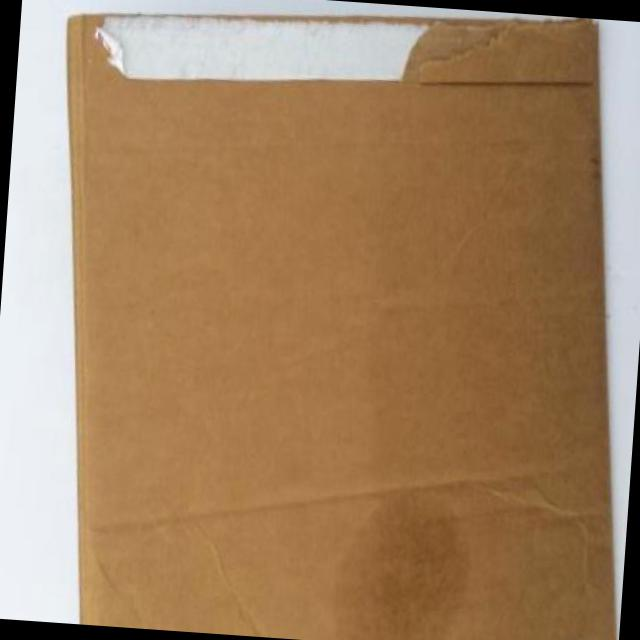cardboard paper: (65, 16, 612, 640)
